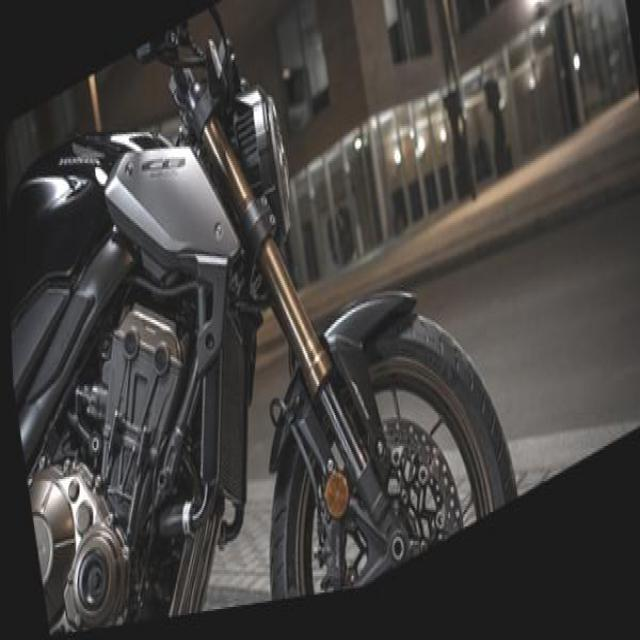CB650R: (0, 0, 517, 639)
